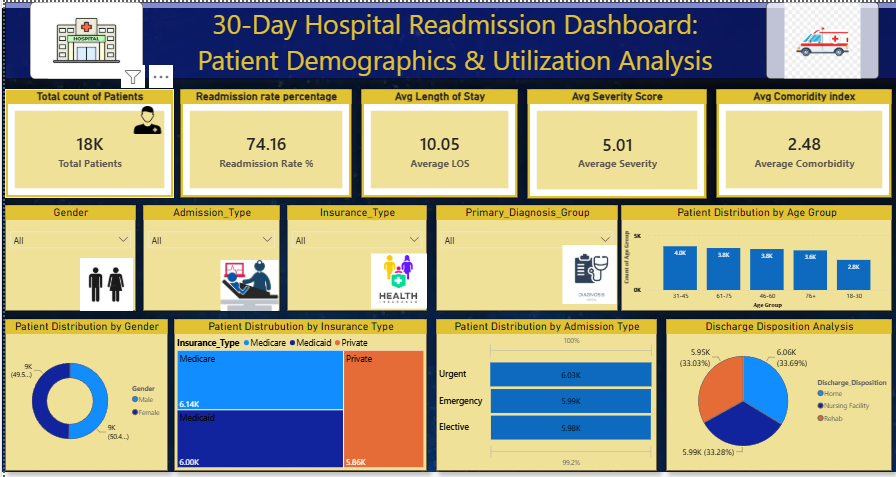

This screenshot's page, from the dashboard's own definition file:
{"tool":"powerbi","page":{"name":"Patient Demographics & Utilization Summary","canvas":[1800,951],"ordinal":2},"visuals":[{"type":"textbox","box":[0,0,1800,154],"z":0},{"type":"image","box":[50,0,226,154],"z":1000},{"type":"image","box":[1522,0,226,154],"z":2000},{"type":"cardVisual","title":"Total count of Patients","fields":{"Data":["Hospital_Readmission_Cleaned.Total Patients"]},"box":[0,174,338,218],"z":3000},{"type":"image","box":[250,208,70,56],"z":4000},{"type":"cardVisual","title":"Readmission rate percentage","fields":{"Data":["Hospital_Readmission_Cleaned.Readmission Rate %"]},"box":[350,174,344,218],"z":5000},{"type":"cardVisual","title":"Avg Length of Stay","fields":{"Data":["Hospital_Readmission_Cleaned.Average LOS"]},"box":[712,174,314,218],"z":6000},{"type":"cardVisual","title":"Avg Severity Score","fields":{"Data":["Hospital_Readmission_Cleaned.Average Severity"]},"box":[1044,174,360,220],"z":7000},{"type":"cardVisual","title":"Avg Comoridity index","fields":{"Data":["Hospital_Readmission_Cleaned.Average Comorbidity"]},"box":[1422,174,352,218],"z":8000},{"type":"slicer","title":"Gender","fields":{"Values":["Hospital_Readmission_Cleaned.Gender"]},"box":[0,406,262,212],"z":9000},{"type":"slicer","title":"Admission_Type","fields":{"Values":["Hospital_Readmission_Cleaned.Admission_Type"]},"box":[276,406,274,212],"z":10000},{"type":"slicer","title":"Insurance_Type","fields":{"Values":["Hospital_Readmission_Cleaned.Insurance_Type"]},"box":[564,406,280,212],"z":11000},{"type":"slicer","title":"Primary_Diagnosis_Group","fields":{"Values":["Hospital_Readmission_Cleaned.Primary_Diagnosis_Group"]},"box":[862,406,364,212],"z":12000},{"type":"image","box":[144,512,118,106],"z":18000},{"type":"image","box":[428,516,122,102],"z":19000},{"type":"image","box":[732,498,112,120],"z":20000},{"type":"image","box":[1106,486,126,118],"z":21000},{"type":"clusteredColumnChart","title":"Patient Distribution by Age Group","fields":{"Y":["CountNonNull(Hospital_Readmission_Cleaned.Age Group)"],"Category":["Hospital_Readmission_Cleaned.Age Group"]},"box":[1232,406,542,212],"z":21001},{"type":"donutChart","title":"Patient Distribution  by Gender","fields":{"Category":["Hospital_Readmission_Cleaned.Gender"],"Y":["Hospital_Readmission_Cleaned.Total Patients"]},"box":[0,634,326,304],"z":21002},{"type":"treemap","title":"Patient Distrubution by Insurance Type","fields":{"Values":["CountNonNull(Hospital_Readmission_Cleaned.Insurance_Type)"],"Group":["Hospital_Readmission_Cleaned.Insurance_Type"]},"box":[338,634,506,304],"z":21005},{"type":"funnel","title":"Patient Distribution by Admission Type","fields":{"Category":["Hospital_Readmission_Cleaned.Admission_Type"],"Y":["CountNonNull(Hospital_Readmission_Cleaned.Admission_Type)"]},"box":[862,634,442,304],"z":21006},{"type":"pieChart","title":"Discharge Disposition Analysis","fields":{"Category":["Hospital_Readmission_Cleaned.Discharge_Disposition"],"Y":["CountNonNull(Hospital_Readmission_Cleaned.Discharge_Disposition)"]},"box":[1322,634,452,304],"z":21007}]}

Visuals, with their boxes in screenshot pixels (x1, y1, x2, y2), scaled from the page's 1800x951 canvas onto the 896x477 screenshot:
textbox: 0/0/895/77
image: 25/0/137/77
image: 758/0/870/77
"Total count of Patients" cardVisual: 0/87/168/197
image: 124/104/159/132
"Readmission rate percentage" cardVisual: 174/87/345/197
"Avg Length of Stay" cardVisual: 354/87/511/197
"Avg Severity Score" cardVisual: 520/87/699/198
"Avg Comoridity index" cardVisual: 708/87/883/197
"Gender" slicer: 0/204/130/310
"Admission_Type" slicer: 137/204/274/310
"Insurance_Type" slicer: 281/204/420/310
"Primary_Diagnosis_Group" slicer: 429/204/610/310
image: 72/257/130/310
image: 213/259/274/310
image: 364/250/420/310
image: 551/244/613/303
"Patient Distribution by Age Group" clusteredColumnChart: 613/204/883/310
"Patient Distribution  by Gender" donutChart: 0/318/162/470
"Patient Distrubution by Insurance Type" treemap: 168/318/420/470
"Patient Distribution by Admission Type" funnel: 429/318/649/470
"Discharge Disposition Analysis" pieChart: 658/318/883/470
